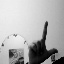l: (27, 21, 59, 61)
